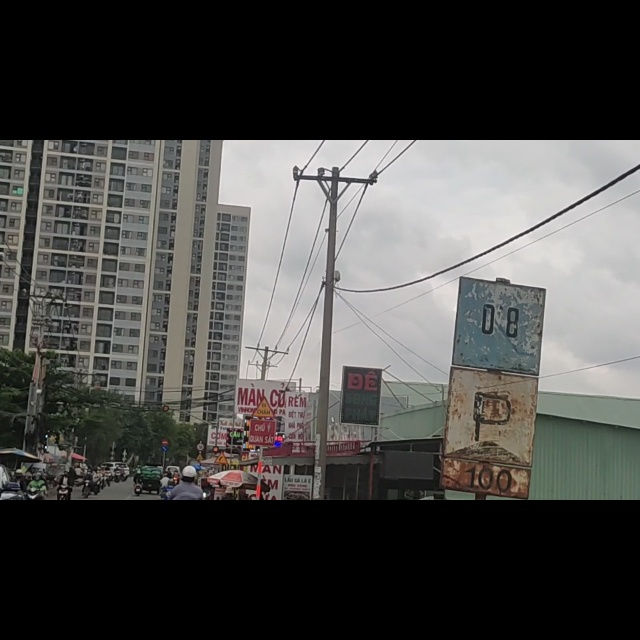bien_cam: (250, 459, 276, 494)
